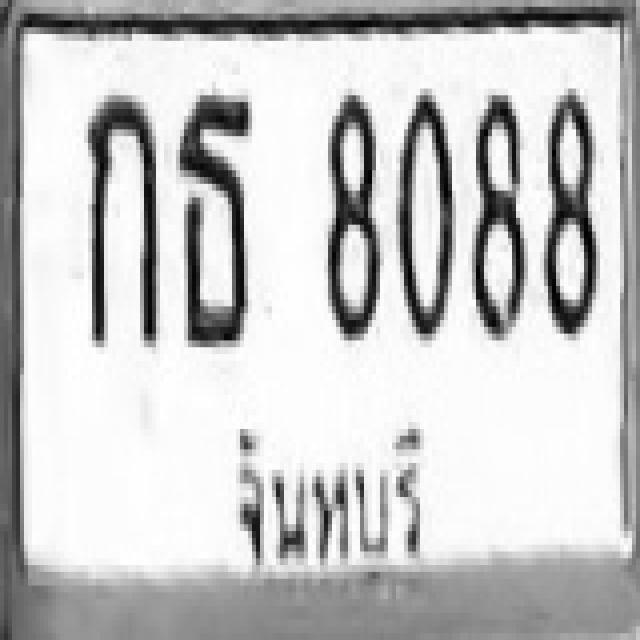0: (396, 88, 452, 340)
10GorGai: (84, 88, 156, 340)
33ThorThong: (176, 88, 252, 340)
8: (324, 88, 380, 340), (542, 85, 598, 337), (470, 92, 526, 337)
Chanthaburi: (226, 406, 438, 580)
